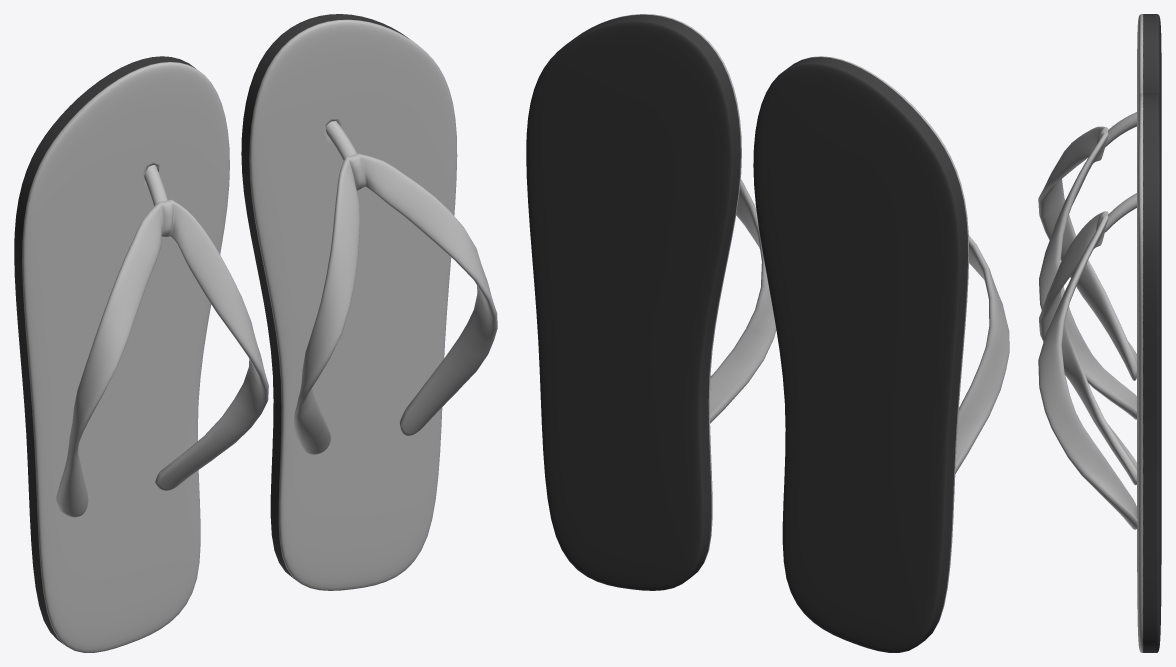
3 renders of one model, left to right at view 1: azimuth 30°, elevation 25°; view 2: azimuth 150°, elevation 25°; view 3: azimuth 270°, elevation 25°, orthographic. The views are drawn at different scales.
Parts seen in each view (by area): view 1: Object_2, Object_3; view 2: Object_2, Object_3; view 3: Object_2, Object_3.
Boxes of the visible parts, x1,y1,x2,y2 form: Object_2: [56, 14, 497, 590]; Object_3: [14, 56, 229, 652]; Object_2: [526, 14, 1009, 590]; Object_3: [753, 56, 969, 652]; Object_2: [1038, 93, 1161, 652]; Object_3: [1105, 14, 1161, 146].
Bounding box in the file's own units: 14.22 × 17.98 × 3.84.
1 material, 1 textured.
